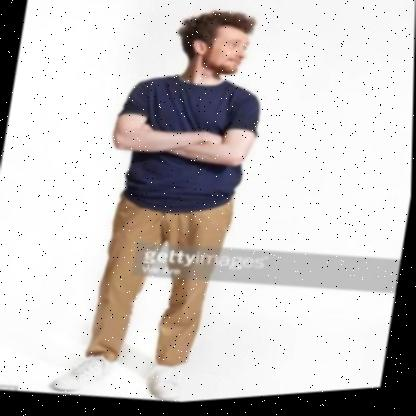person: (76, 0, 283, 410)
